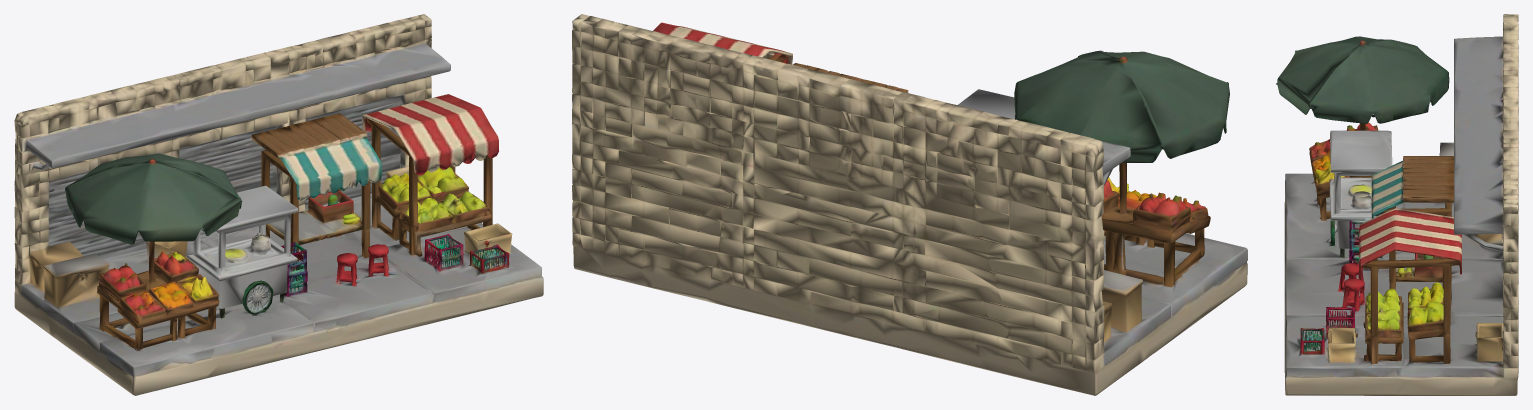
Rendered from market.glb.
The picture shows the model from 3 angles, left to right: view 1: azimuth 30°, elevation 25°; view 2: azimuth 150°, elevation 25°; view 3: azimuth 270°, elevation 25°; orthographic projection. The views are drawn at different scales.
Parts seen in each view (by area): view 1: tripo_node_d86b0236-8295-4c34-92ad-8f7d6496c26a; view 2: tripo_node_d86b0236-8295-4c34-92ad-8f7d6496c26a; view 3: tripo_node_d86b0236-8295-4c34-92ad-8f7d6496c26a.
Part boxes in pixels (x1=…): tripo_node_d86b0236-8295-4c34-92ad-8f7d6496c26a: x1=14, y1=14, x2=543, y2=395; tripo_node_d86b0236-8295-4c34-92ad-8f7d6496c26a: x1=572, y1=14, x2=1247, y2=395; tripo_node_d86b0236-8295-4c34-92ad-8f7d6496c26a: x1=1276, y1=14, x2=1518, y2=395.
Bounding box in the file's own units: 0.42 × 0.1844 × 0.2124.
Materials: 1 (1 with a texture image).
